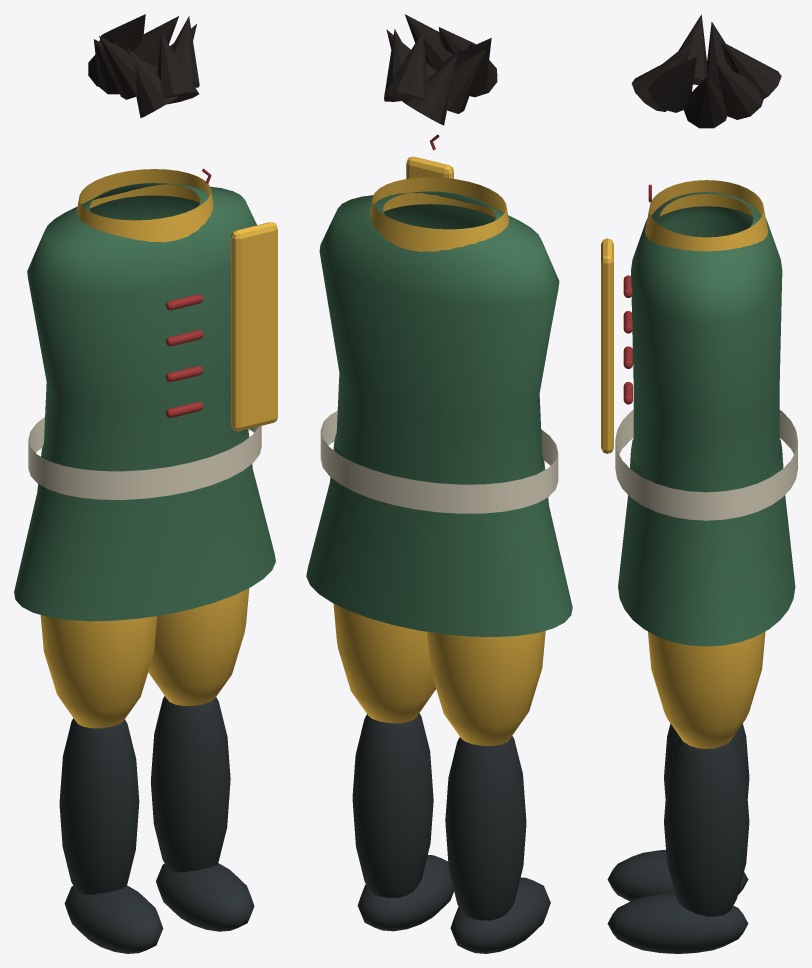
The model's file is OpeningHeroOutfit.glb.
3 renders of one model, left to right at view 1: azimuth 30°, elevation 25°; view 2: azimuth 150°, elevation 25°; view 3: azimuth 270°, elevation 25°, orthographic. The views are drawn at different scales.
Visible parts, largest first — view 1: Chest_Tailored garment, Hips_Draped hem, RightLowerLeg_Boot, LeftLowerLeg_Boot, RightUpperLeg_Trousers, Chest_Scarf tail, LeftUpperLeg_Trousers, Hips_Woven belt, Chest_Golden scarf, RightFoot_Boot toe, LeftFoot_Boot toe, Head_Swept hair.007 (+6 smaller); view 2: Chest_Tailored garment, Hips_Draped hem, LeftLowerLeg_Boot, RightLowerLeg_Boot, RightUpperLeg_Trousers, LeftUpperLeg_Trousers, Hips_Woven belt, Chest_Golden scarf, RightFoot_Boot toe, LeftFoot_Boot toe, Head_Swept hair.002, Head_Swept hair.003 (+5 smaller); view 3: Chest_Tailored garment, Hips_Draped hem, LeftLowerLeg_Boot, LeftUpperLeg_Trousers, Hips_Woven belt, LeftFoot_Boot toe, Chest_Golden scarf, Chest_Scarf tail, RightFoot_Boot toe, Head_Swept hair.008, Head_Swept hair.001, Head_Swept hair (+5 smaller).
Part boxes in pixels (box(x1,y1,x2,y2)): Chest_Tailored garment: box(27, 183, 256, 471); Hips_Draped hem: box(14, 429, 275, 621); RightLowerLeg_Boot: box(59, 718, 139, 894); LeftLowerLeg_Boot: box(150, 696, 230, 872); RightUpperLeg_Trousers: box(40, 615, 157, 728); Chest_Scarf tail: box(231, 222, 277, 431); LeftUpperLeg_Trousers: box(148, 588, 249, 705); Hips_Woven belt: box(28, 417, 261, 499); Chest_Golden scarf: box(76, 169, 213, 242); RightFoot_Boot toe: box(64, 885, 163, 953); LeftFoot_Boot toe: box(156, 863, 254, 931); Head_Swept hair.007: box(157, 33, 198, 104); Chest_Tailored garment: box(319, 191, 559, 484); Hips_Draped hem: box(306, 433, 572, 636); LeftLowerLeg_Boot: box(352, 713, 433, 897); RightLowerLeg_Boot: box(445, 736, 526, 920); RightUpperLeg_Trousers: box(427, 631, 545, 745); LeftUpperLeg_Trousers: box(333, 603, 435, 723); Hips_Woven belt: box(320, 411, 558, 513); Chest_Golden scarf: box(370, 177, 508, 251); RightFoot_Boot toe: box(450, 877, 550, 953); LeftFoot_Boot toe: box(357, 855, 453, 931); Head_Swept hair.002: box(384, 32, 427, 100); Head_Swept hair.003: box(402, 54, 457, 125); Chest_Tailored garment: box(631, 192, 782, 492); Hips_Draped hem: box(618, 439, 795, 646); LeftLowerLeg_Boot: box(664, 738, 749, 916); LeftUpperLeg_Trousers: box(648, 631, 765, 748); Hips_Woven belt: box(615, 410, 797, 520); LeftFoot_Boot toe: box(607, 893, 748, 953); Chest_Golden scarf: box(645, 180, 768, 251); Chest_Scarf tail: box(601, 238, 613, 453); RightFoot_Boot toe: box(607, 849, 748, 901); Head_Swept hair.008: box(648, 56, 696, 112); Head_Swept hair.001: box(716, 63, 763, 119); Head_Swept hair: box(684, 77, 727, 128).
Bounding box in the file's own units: 0.54 × 1.88 × 0.3775.
